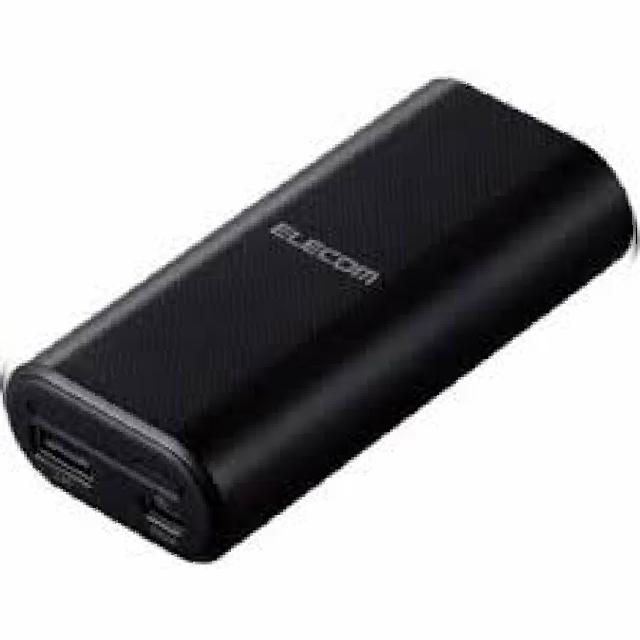Battery: (4, 56, 640, 574)
